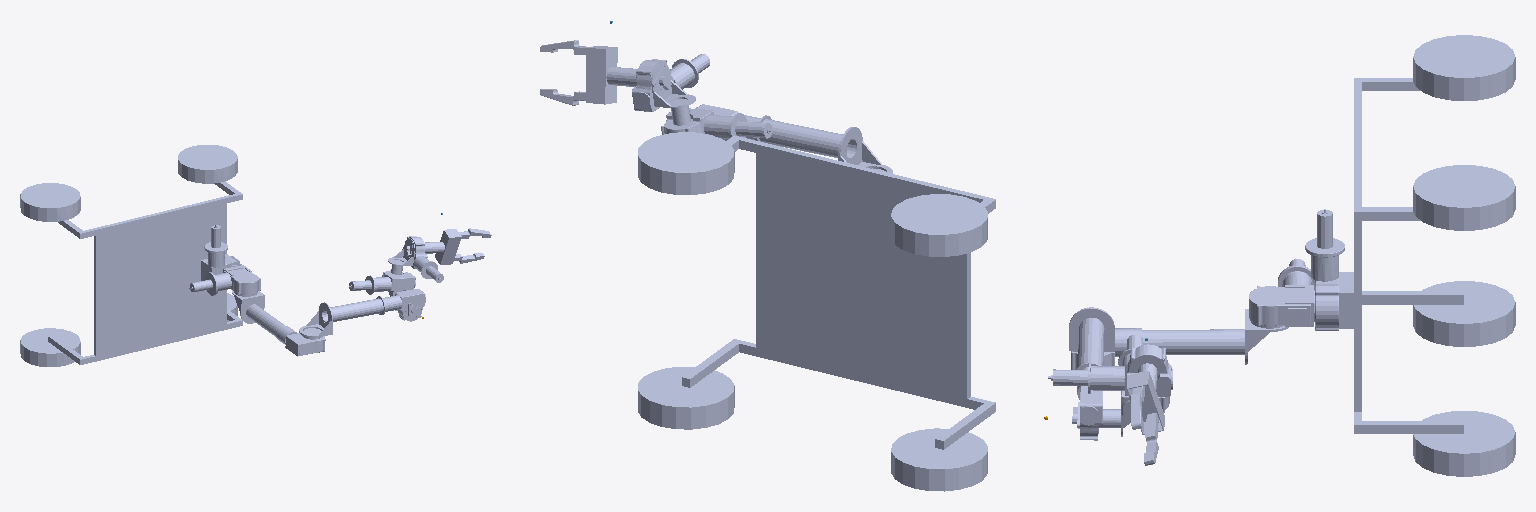
The robot description file, URDF, robot "robotic_arm_20":
<?xml version="1.0" encoding="utf-8"?>
<!-- This URDF was automatically created by SolidWorks to URDF Exporter! Originally created by [author] ([email redacted]) 
     Commit Version: 1.5.1-0-g916b5db  Build Version: 1.5.7152.31018
     For more information, please see http://wiki.ros.org/sw_urdf_exporter -->
<robot
  name="robotic_arm_20">


<link name="world">
  </link>

  <joint 
    name="anchor_joint" 
    type="fixed" >
    <origin
      xyz="0 0 0"
      rpy="0 0 0" />
    <parent
      link="world" />
    <child
      link="base_link" />
  </joint>


  <link
    name="base_link">
    <inertial>
      <origin
        xyz="-0.177929578846649 -0.0448189521284696 -0.0563071745028226"
        rpy="0 0 0" />
      <mass
        value="50.1678933296425" />
      <inertia
        ixx="0.679327306428932"
        ixy="0.0293256929053026"
        ixz="-0.00318310326897868"
        iyy="1.25815561049278"
        iyz="0.00364884485504393"
        izz="0.867671912930066" />
    </inertial>
    <visual>
      <origin
        xyz="0 0 0"
        rpy="0 0 0" />
      <geometry>
        <mesh
          filename="package://robotic_arm_20/meshes/base_link.STL" />
      </geometry>
      <material
        name="">
        <color
          rgba="0.792156862745098 0.819607843137255 0.933333333333333 1" />
      </material>
    </visual>
    <collision>
      <origin
        xyz="0 0 0"
        rpy="0 0 0" />
      <geometry>
        <mesh
          filename="package://robotic_arm_20/meshes/base_link.STL" />
      </geometry>
    </collision>
  </link>
  <link
    name="link_1">
    <inertial>
      <origin
        xyz="0.0307735798009799 0.00183857878904144 0.05776302399739"
        rpy="0 0 0" />
      <mass
        value="0.706717645435088" />
      <inertia
        ixx="0.000829923312483749"
        ixy="2.51330148592796E-05"
        ixz="0.000448748199767411"
        iyy="0.00249579785061569"
        iyz="-1.53388435428423E-05"
        izz="0.00194089524455759" />
    </inertial>
    <visual>
      <origin
        xyz="0 0 0"
        rpy="0 0 0" />
      <geometry>
        <mesh
          filename="package://robotic_arm_20/meshes/link_1.STL" />
      </geometry>
      <material
        name="">
        <color
          rgba="0.792156862745098 0.819607843137255 0.933333333333333 1" />
      </material>
    </visual>
    <collision>
      <origin
        xyz="0 0 0"
        rpy="0 0 0" />
      <geometry>
        <mesh
          filename="package://robotic_arm_20/meshes/link_1.STL" />
      </geometry>
    </collision>
  </link>
  <joint
    name="joint_1"
    type="revolute">
    <origin
      xyz="0.034365 -0.24 -0.05911"
      rpy="-1.5708 -0.018138 3.1416" />
    <parent
      link="base_link" />
    <child
      link="link_1" />
    <axis
      xyz="0 0 1" />
    <limit
      lower="-3.14"
      upper="3.14"
      effort="200"
      velocity="20" />
  </joint>
  <link
    name="link_2">
    <inertial>
      <origin
        xyz="-0.275000735323264 -0.0186520124434141 -0.0428718953735277"
        rpy="0 0 0" />
      <mass
        value="0.857612899011877" />
      <inertia
        ixx="0.00100323353146624"
        ixy="-0.000408353362085675"
        ixz="-8.56766894490009E-06"
        iyy="0.00224878114790486"
        iyz="3.51573343165913E-05"
        izz="0.00281118351188428" />
    </inertial>
    <visual>
      <origin
        xyz="0 0 0"
        rpy="0 0 0" />
      <geometry>
        <mesh
          filename="package://robotic_arm_20/meshes/link_2.STL" />
      </geometry>
      <material
        name="">
        <color
          rgba="0.792156862745098 0.819607843137255 0.933333333333333 1" />
      </material>
    </visual>
    <collision>
      <origin
        xyz="0 0 0"
        rpy="0 0 0" />
      <geometry>
        <mesh
          filename="package://robotic_arm_20/meshes/link_2.STL" />
      </geometry>
    </collision>
  </link>
  <joint
    name="joint_2"
    type="revolute">
    <origin
      xyz="0.0017236 0.034965 0.092"
      rpy="1.5708 1.5598 -0.029257" />
    <parent
      link="link_1" />
    <child
      link="link_2" />
    <axis
      xyz="0 0 1" />
    <limit
      lower="-3.14"
      upper="3.14"
      effort="200"
      velocity="20" />
  </joint>
  <link
    name="link_3">
    <inertial>
      <origin
        xyz="0.245107194518098 0.00458456239654748 0.036941945711721"
        rpy="0 0 0" />
      <mass
        value="0.558171663713875" />
      <inertia
        ixx="0.000351728751566333"
        ixy="-2.87478582511683E-05"
        ixz="6.0157925189992E-05"
        iyy="0.00184746071997954"
        iyz="-1.33660990163985E-05"
        izz="0.00182740315351891" />
    </inertial>
    <visual>
      <origin
        xyz="0 0 0"
        rpy="0 0 0" />
      <geometry>
        <mesh
          filename="package://robotic_arm_20/meshes/link_3.STL" />
      </geometry>
      <material
        name="">
        <color
          rgba="0.792156862745098 0.819607843137255 0.933333333333333 1" />
      </material>
    </visual>
    <collision>
      <origin
        xyz="0 0 0"
        rpy="0 0 0" />
      <geometry>
        <mesh
          filename="package://robotic_arm_20/meshes/link_3.STL" />
      </geometry>
    </collision>
  </link>
  <joint
    name="joint_3"
    type="revolute">
    <origin
      xyz="-0.3487 -0.052216 -0.0059238"
      rpy="3.9244E-05 -0.0014578 -1.5977" />
    <parent
      link="link_2" />
    <child
      link="link_3" />
    <axis
      xyz="0 0 1" />
    <limit
      lower="-3.14"
      upper="3.14"
      effort="200"
      velocity="20" />
  </joint>
  <link
    name="link_4">
    <inertial>
      <origin
        xyz="0.0595782374335066 -0.0499503106347304 0.0282692952427614"
        rpy="0 0 0" />
      <mass
        value="0.394030662704721" />
      <inertia
        ixx="0.00128765152266412"
        ixy="-2.86014297635847E-05"
        ixz="7.39637604307696E-06"
        iyy="0.000207774992497037"
        iyz="-7.85862478687544E-05"
        izz="0.00124757601622805" />
    </inertial>
    <visual>
      <origin
        xyz="0 0 0"
        rpy="0 0 0" />
      <geometry>
        <mesh
          filename="package://robotic_arm_20/meshes/link_4.STL" />
      </geometry>
      <material
        name="">
        <color
          rgba="0.792156862745098 0.819607843137255 0.933333333333333 1" />
      </material>
    </visual>
    <collision>
      <origin
        xyz="0 0 0"
        rpy="0 0 0" />
      <geometry>
        <mesh
          filename="package://robotic_arm_20/meshes/link_4.STL" />
      </geometry>
    </collision>
  </link>
  <joint
    name="joint_4"
    type="revolute">
    <origin
      xyz="0.3685 0.066058 0.014123"
      rpy="-1.5553 -1.4503 -0.015391" />
    <parent
      link="link_3" />
    <child
      link="link_4" />
    <axis
      xyz="0 0 1" />
    <limit
      lower="-3.14"
      upper="3.14"
      effort="200"
      velocity="20" />
  </joint>
  <link
    name="link_5">
    <inertial>
      <origin
        xyz="0.0591496535173698 -0.0543079017830739 -0.0148179652309395"
        rpy="0 0 0" />
      <mass
        value="0.332748424915082" />
      <inertia
        ixx="0.000184469559835572"
        ixy="-2.86014298659074E-05"
        ixz="-7.85862495536235E-05"
        iyy="0.00126974017331582"
        iyz="8.59066300995905E-06"
        izz="0.00122587723171109" />
    </inertial>
    <visual>
      <origin
        xyz="0 0 0"
        rpy="0 0 0" />
      <geometry>
        <mesh
          filename="package://robotic_arm_20/meshes/link_5.STL" />
      </geometry>
      <material
        name="">
        <color
          rgba="0.792156862745098 0.819607843137255 0.933333333333333 1" />
      </material>
    </visual>
    <collision>
      <origin
        xyz="0 0 0"
        rpy="0 0 0" />
      <geometry>
        <mesh
          filename="package://robotic_arm_20/meshes/link_5.STL" />
      </geometry>
    </collision>
  </link>
  <joint
    name="joint_5"
    type="revolute">
    <origin
      xyz="0.1215 0 0.052"
      rpy="1.5708 1.5496 -1.5708" />
    <parent
      link="link_4" />
    <child
      link="link_5" />
    <axis
      xyz="0 0 1" />
    <limit
      lower="-3.14"
      upper="3.14"
      effort="200"
      velocity="20" />
  </joint>
  <link
    name="link_6">
    <inertial>
      <origin
        xyz="-7.8826E-15 1.1685E-14 -0.10675"
        rpy="0 0 0" />
      <mass
        value="0.261" />
      <inertia
        ixx="0.00052088"
        ixy="-1.5785E-05"
        ixz="2.7529E-20"
        iyy="0.0004691"
        iyz="1.4298E-19"
        izz="0.00011568" />
    </inertial>
    <visual>
      <origin
        xyz="0 0 0"
        rpy="0 0 0" />
      <geometry>
        <mesh
          filename="package://robotic_arm_20/meshes/link_6.STL" />
      </geometry>
      <material
        name="">
        <color
          rgba="0.79216 0.81961 0.93333 1" />
      </material>
    </visual>
    <collision>
      <origin
        xyz="0 0 0"
        rpy="0 0 0" />
      <geometry>
        <mesh
          filename="package://robotic_arm_20/meshes/link_6.STL" />
      </geometry>
    </collision>
  </link>
  <joint
    name="joint_6"
    type="revolute">
    <origin
      xyz="0 -0.0685 -0.042"
      rpy="-1.5708 -0.0023982 0" />
    <parent
      link="link_5" />
    <child
      link="link_6" />
    <axis
      xyz="0 0 1" />
    <limit
      lower="-3.14"
      upper="3.14"
      effort="200"
      velocity="20" />
  </joint>

  <transmission name="tran1">
    <type>transmission_interface/SimpleTransmission</type>
    <joint name="joint_1">
      <hardwareInterface>hardware_interface/EffortJointInterface</hardwareInterface>
    </joint>
    <actuator name="motor1">
      <hardwareInterface>hardware_interface/EffortJointInterface</hardwareInterface>
      <mechanicalReduction>1</mechanicalReduction>
    </actuator>
  </transmission>

  <transmission name="tran2">
    <type>transmission_interface/SimpleTransmission</type>
    <joint name="joint_2">
      <hardwareInterface>hardware_interface/EffortJointInterface</hardwareInterface>
    </joint>
    <actuator name="motor2">
      <hardwareInterface>hardware_interface/EffortJointInterface</hardwareInterface>
      <mechanicalReduction>1</mechanicalReduction>
    </actuator>
  </transmission>

  <transmission name="tran3">
    <type>transmission_interface/SimpleTransmission</type>
    <joint name="joint_3">
      <hardwareInterface>hardware_interface/EffortJointInterface</hardwareInterface>
    </joint>
    <actuator name="motor3">
      <hardwareInterface>hardware_interface/EffortJointInterface</hardwareInterface>
      <mechanicalReduction>1</mechanicalReduction>
    </actuator>
  </transmission>

  <transmission name="tran4">
    <type>transmission_interface/SimpleTransmission</type>
    <joint name="joint_4">
      <hardwareInterface>hardware_interface/EffortJointInterface</hardwareInterface>
    </joint>
    <actuator name="motor4">
      <hardwareInterface>hardware_interface/EffortJointInterface</hardwareInterface>
      <mechanicalReduction>1</mechanicalReduction>
    </actuator>
  </transmission>

  <transmission name="tran5">
    <type>transmission_interface/SimpleTransmission</type>
    <joint name="joint_5">
      <hardwareInterface>hardware_interface/EffortJointInterface</hardwareInterface>
    </joint>
    <actuator name="motor5">
      <hardwareInterface>hardware_interface/EffortJointInterface</hardwareInterface>
      <mechanicalReduction>1</mechanicalReduction>
    </actuator>
  </transmission>

  <transmission name="tran6">
    <type>transmission_interface/SimpleTransmission</type>
    <joint name="joint_6">
      <hardwareInterface>hardware_interface/EffortJointInterface</hardwareInterface>
    </joint>
    <actuator name="motor6">
      <hardwareInterface>hardware_interface/EffortJointInterface</hardwareInterface>
      <mechanicalReduction>1</mechanicalReduction>
    </actuator>
  </transmission>

 <link name="camera">
    <collision>
      <origin xyz="0 0 0" rpy="0 0 0"/>
      <geometry>
        <box size="0.05 0.05 0.05"/>
      </geometry>
    </collision>

    <visual>
      <origin xyz="0 0 0" rpy="0 0 0"/>
      <geometry>
        <box size="0.005 0.005 0.005"/>
      </geometry>
      <material name="green"/>
    </visual>

    <inertial>
      <mass value="0.1" />
      <origin xyz="0 0 0" rpy="0 0 0"/>
      <box_inertia m="0.1" x="0.05" y="0.05" z="0.05" />
      <inertia ixx="1e-6" ixy="0" ixz="0" iyy="1e-6" iyz="0" izz="1e-6" />
    </inertial>
  </link>

  <joint name="camera_joint" type="fixed">
    <axis xyz="1 1 0" />
    <origin xyz="0 0 -0.15" rpy="3.14 -0.5 1.57"/>
    <parent link="link_4"/>
    <child link="camera"/>
  </joint>

<link name="camera2">
    <collision>
      <origin xyz="0 0 0" rpy="0 0 0"/>
      <geometry>
        <box size="0.05 0.05 0.05"/>
      </geometry>
    </collision>

    <visual>
      <origin xyz="0 0 0" rpy="0 0 0"/>
      <geometry>
        <box size="0.005 0.005 0.005"/>
      </geometry>
      <material name="green"/>
    </visual>

    <inertial>
      <mass value="0.1" />
      <origin xyz="0 0 0" rpy="0 0 0"/>
      <box_inertia m="0.1" x="0.05" y="0.05" z="0.05" />
      <inertia ixx="1e-6" ixy="0" ixz="0" iyy="1e-6" iyz="0" izz="1e-6" />
    </inertial>
  </link>

  <joint name="camera_joint2" type="fixed">
    <axis xyz="1 1 0" />
    <origin xyz="0 0.12 -0.07" rpy="0 1.57 0"/>
    <parent link="link_6"/>
    <child link="camera2"/>
  </joint>


   <gazebo>
    <plugin name="gazebo_ros_control" filename="libgazebo_ros_control.so">
  <robotSimType>gazebo_ros_control/DefaultRobotHWSim</robotSimType>
  <legacyModeNS>true</legacyModeNS>
    </plugin>
</gazebo>
	<gazebo reference="camera">
       <sensor type="camera" name="camera">
         <update_rate>30.0</update_rate>
         <camera name="camera">
           <horizontal_fov>1.3962634</horizontal_fov>
           <image>
             <width>800</width>
             <height>800</height>
             <format>R8G8B8</format>
           </image>
           <clip>
             <near>0.02</near>
             <far>300</far>
           </clip>
           <noise>
             <type>gaussian</type>
             <!-- Noise is sampled independently per pixel on each frame.
                  That pixel's noise value is added to each of its color
                  channels, which at that point lie in the range [0,1]. -->
             <mean>0.0</mean>
             <stddev>0.007</stddev>
           </noise>
         </camera>
         <plugin name="camera_controller" filename="libgazebo_ros_camera.so">
           <legacyModeNS>true</legacyModeNS>
           <alwaysOn>true</alwaysOn>
           <updateRate>0.0</updateRate>
           <cameraName>/mybot/camera</cameraName>
           <imageTopicName>camera_view</imageTopicName>
           <cameraInfoTopicName>camera_info</cameraInfoTopicName>
           <frameName>camera</frameName>
           <hackBaseline>0.07</hackBaseline>
           <distortionK1>0.0</distortionK1>
           <distortionK2>0.0</distortionK2>
           <distortionK3>0.0</distortionK3>
           <distortionT1>0.0</distortionT1>
           <distortionT2>0.0</distortionT2>
         </plugin>
       </sensor>
     </gazebo>


<gazebo reference="camera2">
       <sensor type="camera" name="camera2">
         <update_rate>30.0</update_rate>
         <camera name="camera2">
           <horizontal_fov>1.3962634</horizontal_fov>
           <image>
             <width>800</width>
             <height>800</height>
             <format>R8G8B8</format>
           </image>
           <clip>
             <near>0.02</near>
             <far>300</far>
           </clip>
           <noise>
             <type>gaussian</type>
             <!-- Noise is sampled independently per pixel on each frame.
                  That pixel's noise value is added to each of its color
                  channels, which at that point lie in the range [0,1]. -->
             <mean>0.0</mean>
             <stddev>0.007</stddev>
           </noise>
         </camera>
         <plugin name="camera2_controller" filename="libgazebo_ros_camera.so">
           <legacyModeNS>true</legacyModeNS>
           <alwaysOn>true</alwaysOn>
           <updateRate>0.0</updateRate>
           <cameraName>/mybot/camera2</cameraName>
           <imageTopicName>camera2_view</imageTopicName>
           <cameraInfoTopicName>camera2_info</cameraInfoTopicName>
           <frameName>camera2</frameName>
           <hackBaseline>0.07</hackBaseline>
           <distortionK1>0.0</distortionK1>
           <distortionK2>0.0</distortionK2>
           <distortionK3>0.0</distortionK3>
           <distortionT1>0.0</distortionT1>
           <distortionT2>0.0</distortionT2>
         </plugin>
       </sensor>
     </gazebo>
</robot>

--- What the picture shows (computed from the rendered views, not written in the file) ---
The picture shows the robot from 3 angles, left to right: view 1: azimuth 30°, elevation 25°; view 2: azimuth 150°, elevation 25°; view 3: azimuth 270°, elevation 25°; orthographic projection.
Model robotic_arm_20 with 10 links and 9 joints (6 revolute, 3 fixed), rooted at world, posed every joint at zero.
Links seen in each view (by area): view 1: base_link, link_3, link_2, link_1, link_6, link_4, link_5; view 2: base_link, link_3, link_5, link_6, link_4; view 3: base_link, link_3, link_2, link_1, link_5, link_6, link_4.
Boxes of the visible links, x1,y1,x2,y2 form: base_link: [20, 145, 242, 366]; link_3: [299, 289, 425, 337]; link_2: [232, 290, 325, 356]; link_1: [189, 265, 260, 296]; link_6: [425, 228, 491, 264]; link_4: [349, 260, 415, 310]; link_5: [388, 236, 443, 282]; base_link: [638, 132, 995, 491]; link_3: [695, 104, 892, 173]; link_5: [632, 54, 709, 111]; link_6: [540, 40, 637, 105]; link_4: [661, 99, 772, 139]; base_link: [1305, 35, 1515, 476]; link_3: [1069, 307, 1120, 440]; link_2: [1071, 309, 1288, 369]; link_1: [1249, 259, 1314, 328]; link_5: [1048, 344, 1172, 396]; link_6: [1127, 361, 1164, 465]; link_4: [1118, 335, 1169, 436].
Size in the robot's own frame: 1.41 by 0.9203 by 0.58 metres.
7 mesh visuals loaded from 7 distinct referenced files (7 binary STL).
